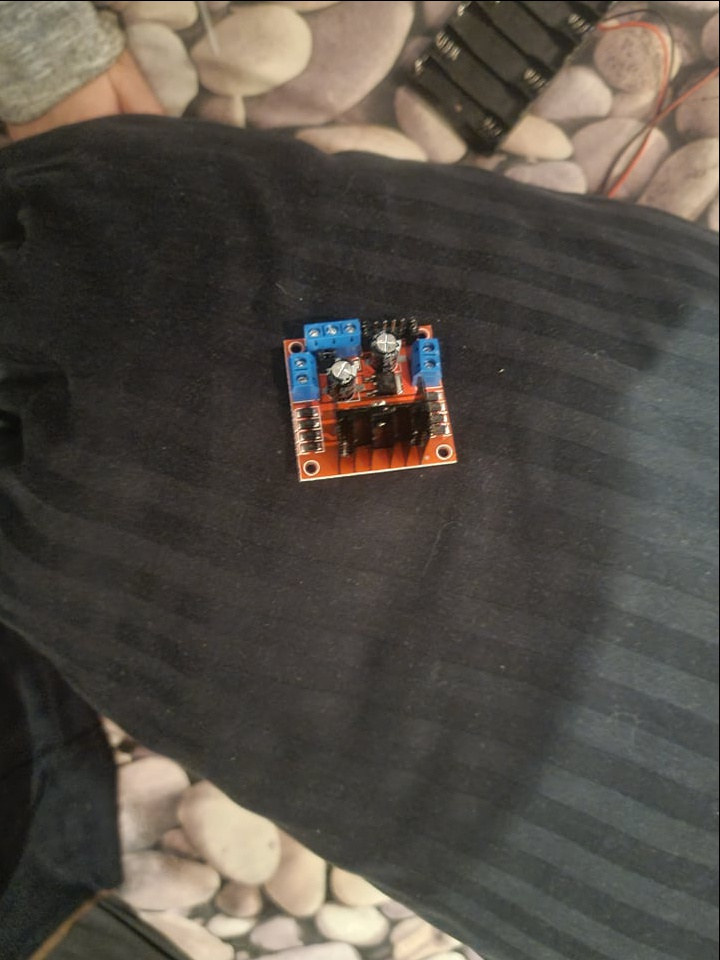MOTOR: (281, 312, 459, 484)
